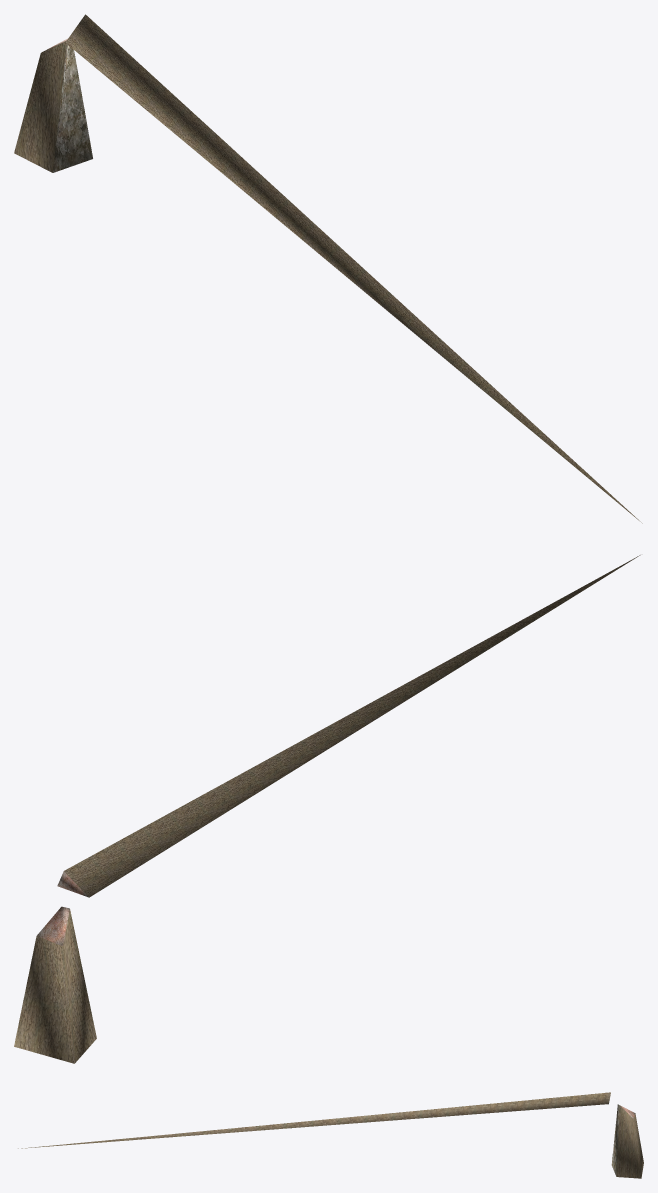
The model's file is decd_maplefallen_l4.fbx.
The picture shows the model from 3 angles, top to bottom: view 1: azimuth 30°, elevation 25°; view 2: azimuth 150°, elevation 25°; view 3: azimuth 270°, elevation 25°; orthographic projection. The views are drawn at different scales.
Visible parts, largest first — view 1: mesh_node; view 2: mesh_node; view 3: mesh_node.
Part boxes in pixels (x1,y1,x2,y2): mesh_node: (14, 14, 642, 523); mesh_node: (14, 555, 640, 1063); mesh_node: (18, 1092, 643, 1178).
Bounding box in the file's own units: 0.4413 × 1.06 × 7.46.
